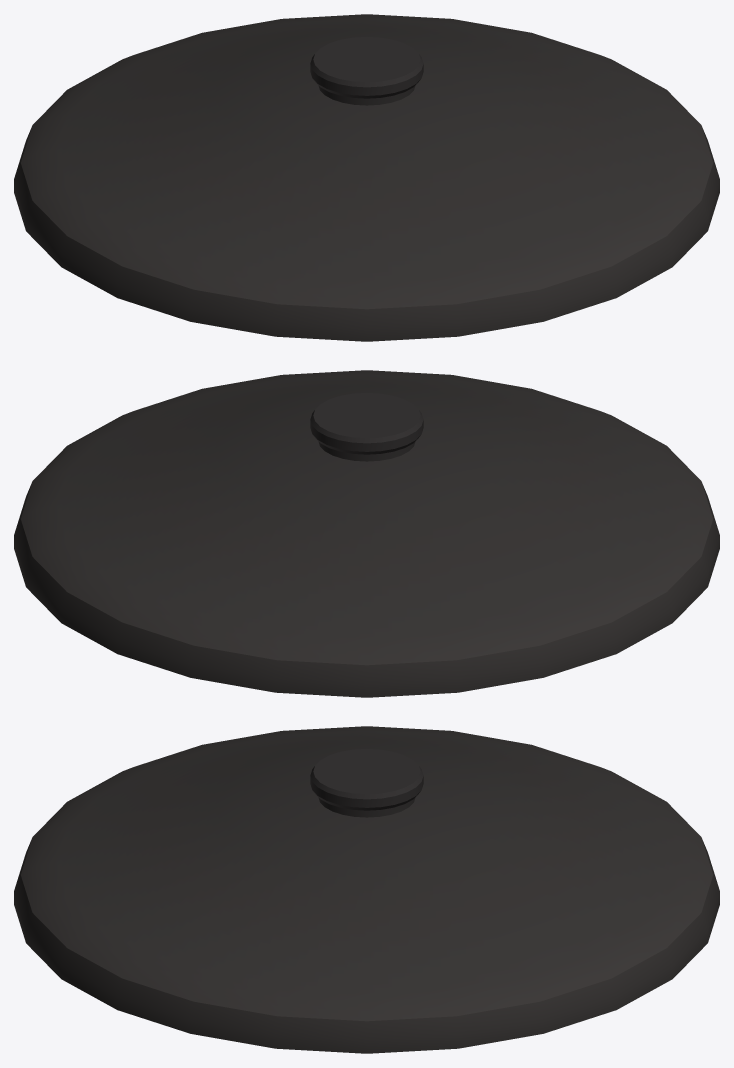
The model's file is Sauce Pan Lid.fbx.
3 views of the same model, one above another, from view 1: azimuth 30°, elevation 25°; view 2: azimuth 150°, elevation 25°; view 3: azimuth 270°, elevation 25° (orthographic).
Visible parts, largest first — view 1: Sauce Pan Lid; view 2: Sauce Pan Lid; view 3: Sauce Pan Lid.
Boxes of the visible parts, box(x1,y1,x2,y2) form: Sauce Pan Lid: box(14, 14, 719, 341); Sauce Pan Lid: box(14, 370, 719, 697); Sauce Pan Lid: box(14, 726, 719, 1053).
Bounding box in the file's own units: 200 × 41.62 × 200.
